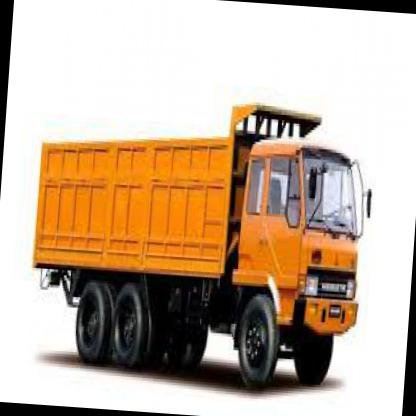truck: (225, 135, 370, 397)
